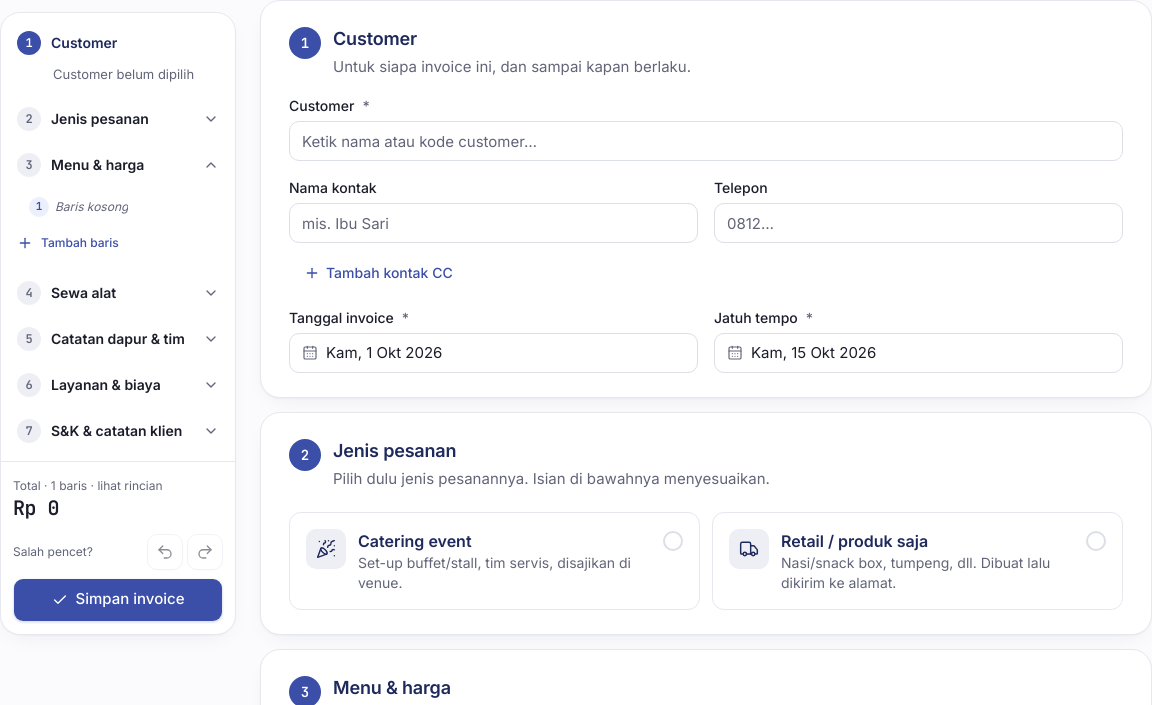
it: FormDokumen — memilih customer › MENGGANTI kontak ketika customernya diganti
Type "House of Sekar" into the dropdown labelled "Customer *".
click(706, 141); type("House of Sekar")  # box [289,121,1123,161]
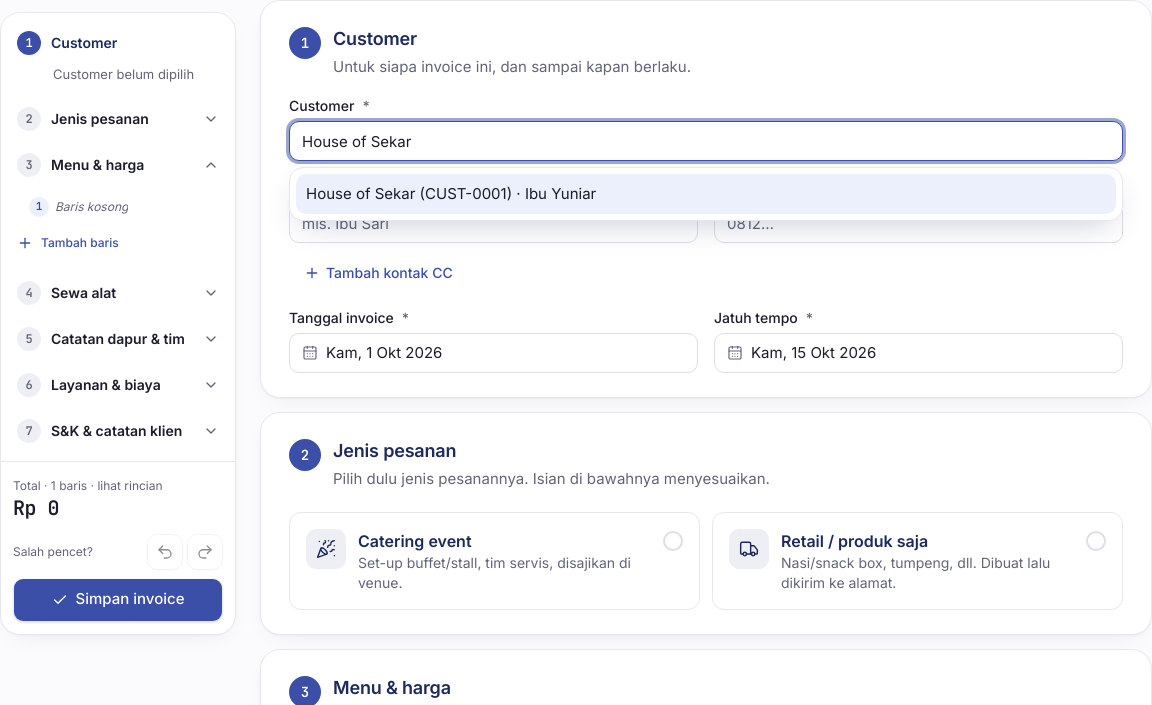
Click the button "House of Sekar (CUST-0001) · Ibu Yuniar".
click(451, 194)  # box [296,174,1116,214]
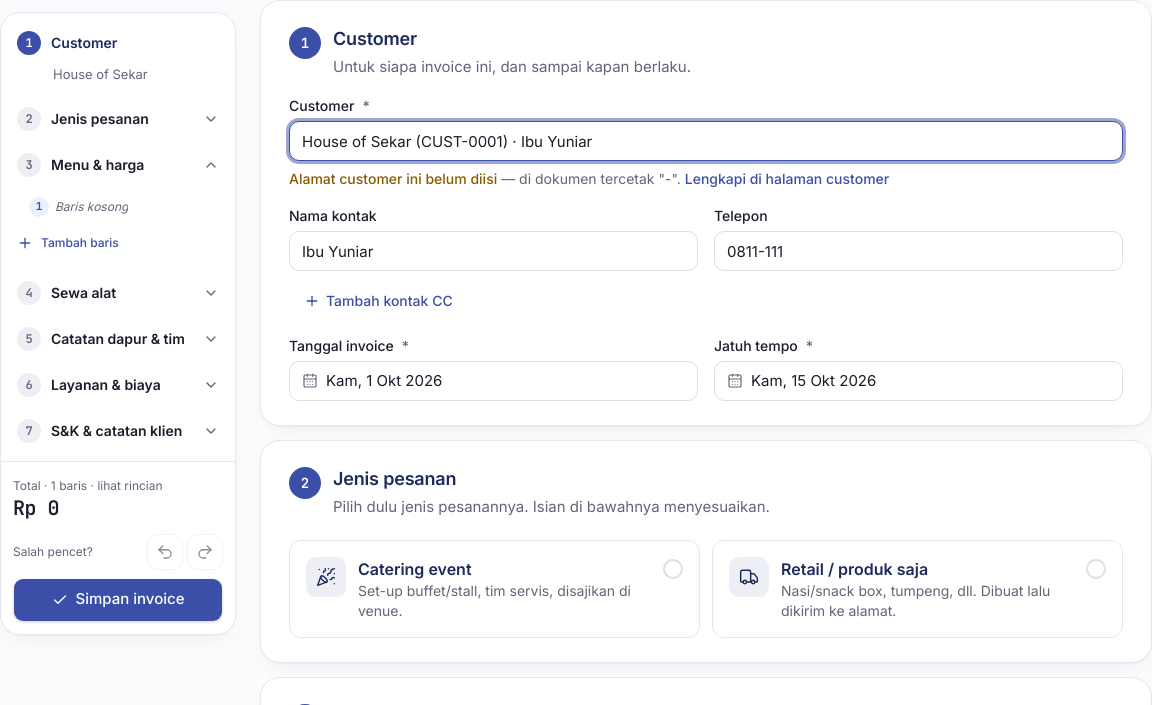
Type "MEY Bakery" into the dropdown labelled "Customer *".
click(706, 141); type("MEY Bakery")  # box [289,121,1123,161]
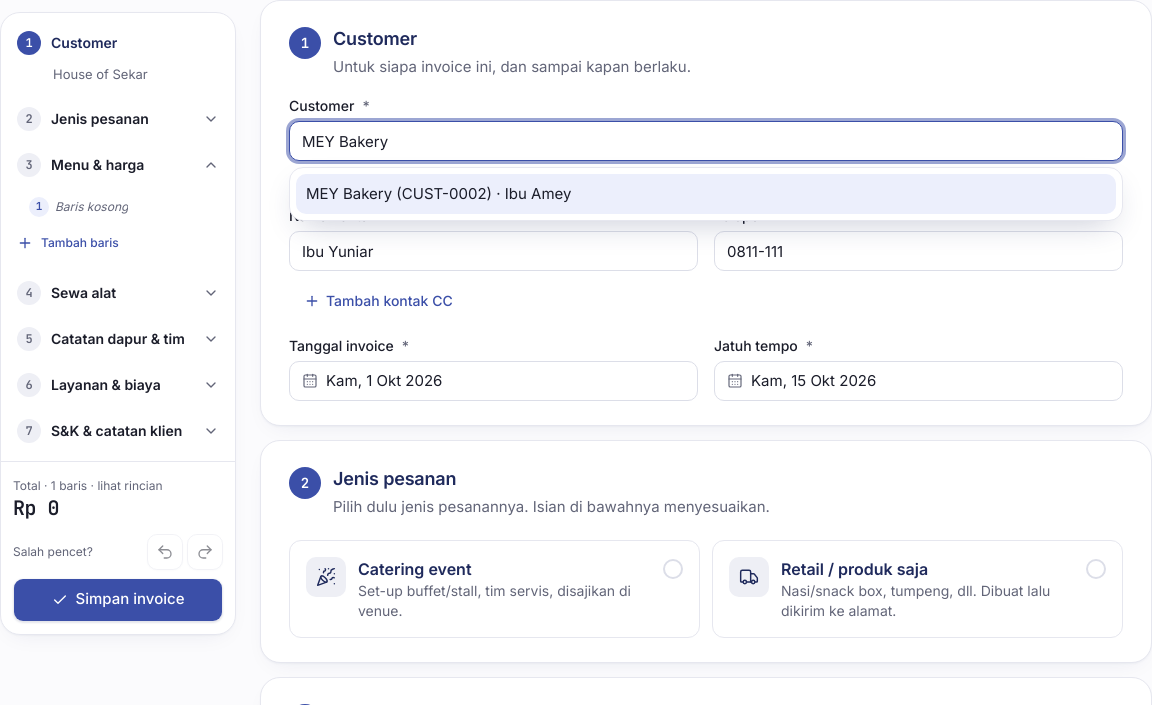
Click the button "MEY Bakery (CUST-0002) · Ibu Amey".
click(439, 194)  # box [296,174,1116,214]
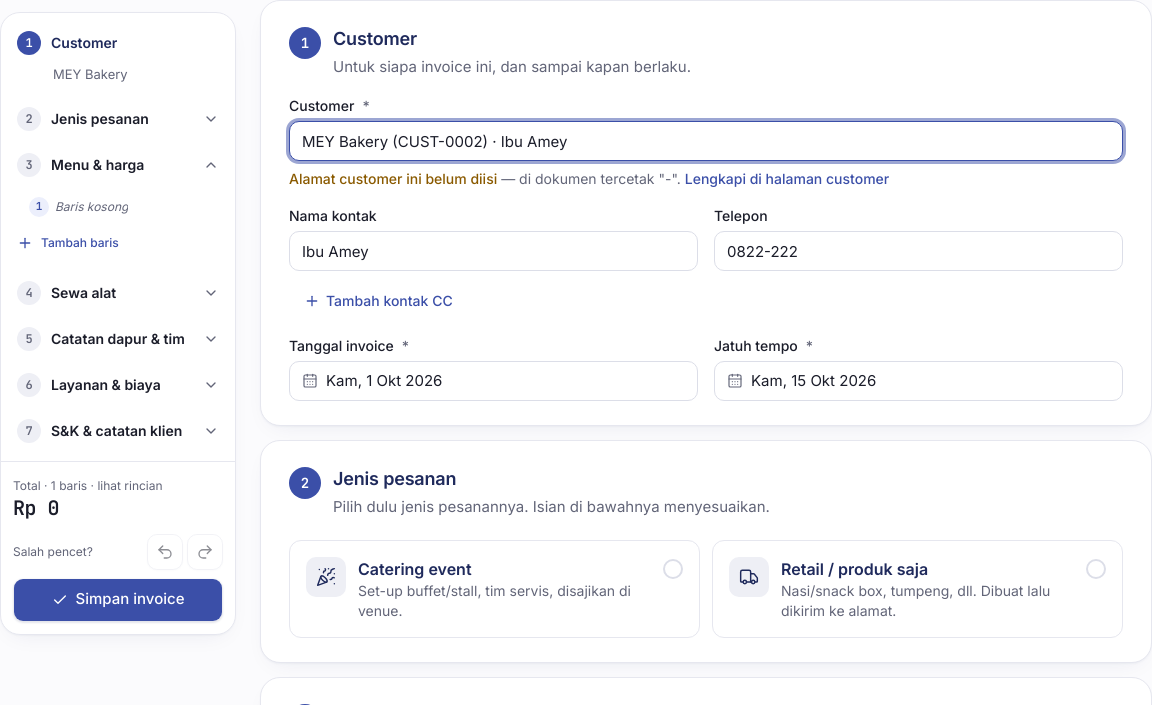
expect the field labelled "Nama kontak" holds "Ibu Amey": met, box [289,231,698,271]
expect the field labelled "Telepon" holds "0822-222": met, box [714,231,1123,271]
